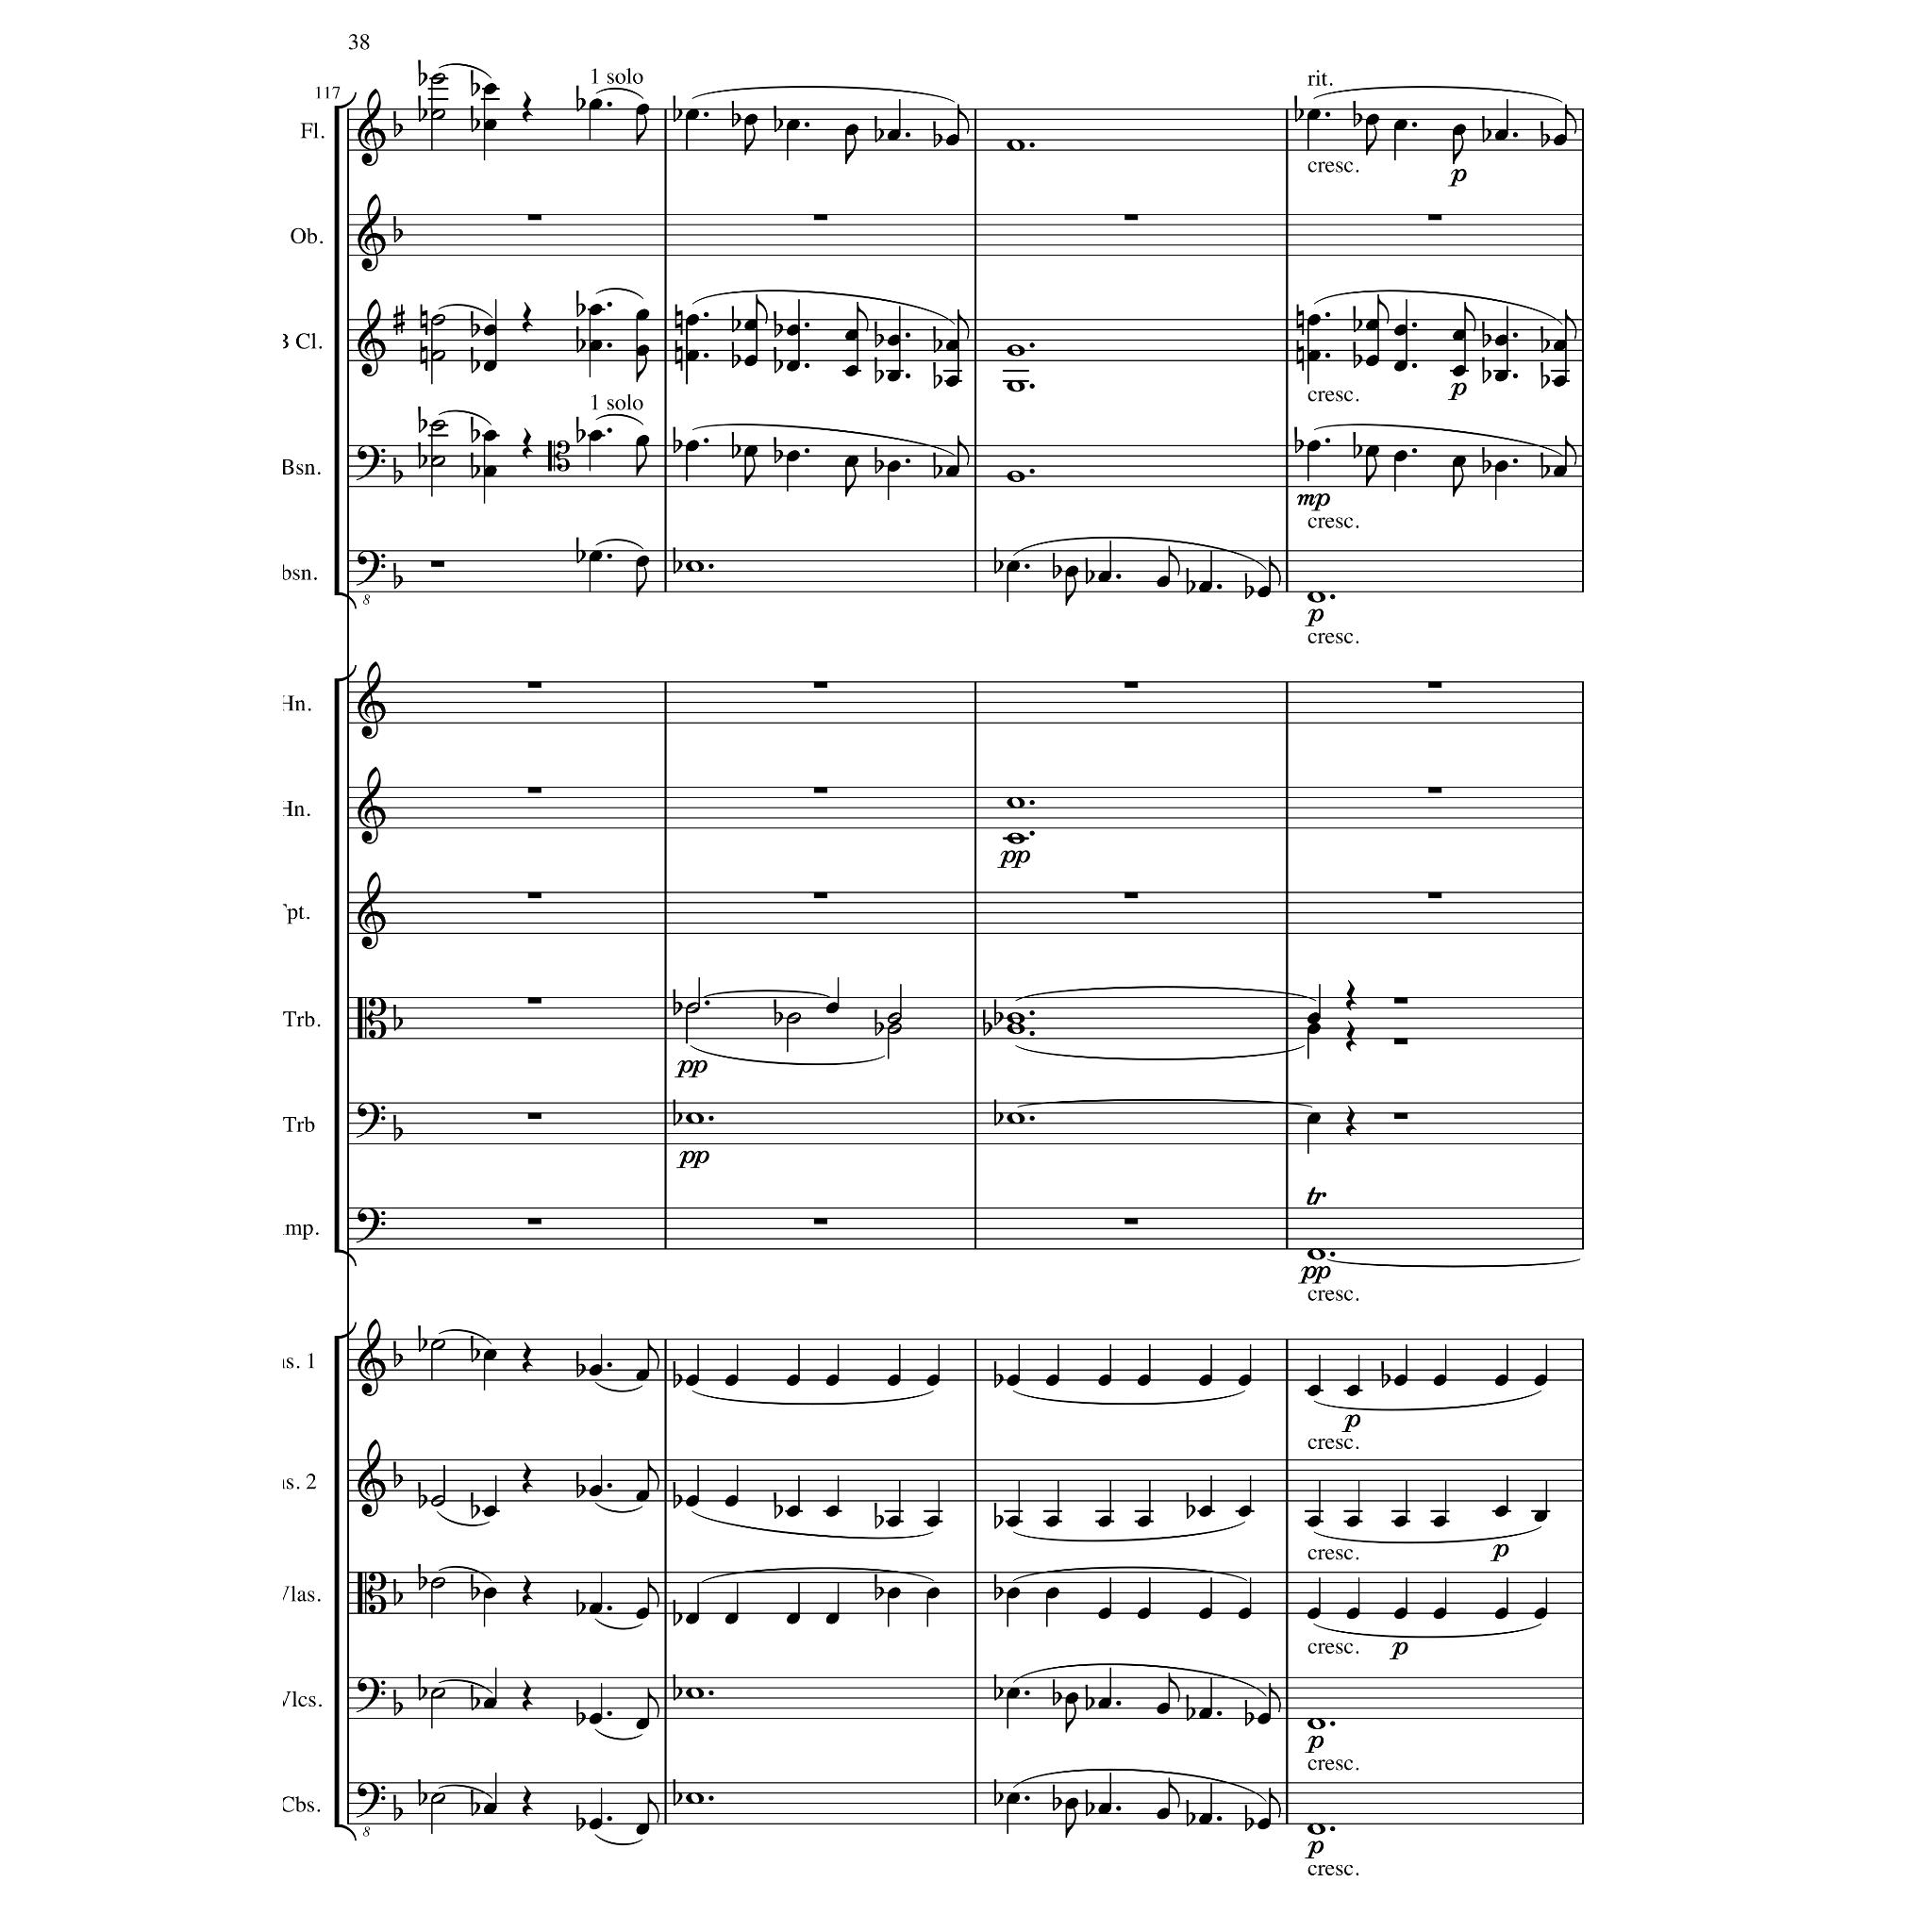fClef: (355, 551, 385, 587), (355, 445, 385, 481), (355, 1207, 385, 1243), (355, 1103, 385, 1139), (355, 1783, 385, 1819), (355, 1677, 385, 1713)
flag8thDown: (1453, 466, 1464, 498), (636, 445, 647, 477), (636, 351, 647, 383), (845, 466, 857, 498), (1453, 134, 1464, 164), (1366, 457, 1377, 487), (1366, 125, 1377, 156), (636, 567, 647, 597), (636, 115, 647, 145), (845, 134, 857, 164), (1066, 1807, 1075, 1838), (1066, 1703, 1075, 1733), (1066, 575, 1075, 606), (745, 125, 755, 156), (745, 457, 755, 487)
flag8thUp: (755, 294, 768, 325), (1269, 557, 1280, 587), (1168, 546, 1179, 576), (1168, 1778, 1179, 1808), (1168, 1673, 1179, 1703), (1269, 1789, 1280, 1819), (1269, 1683, 1280, 1713), (1565, 310, 1576, 341), (1565, 105, 1576, 135), (1464, 302, 1475, 332), (1565, 436, 1576, 466), (1377, 294, 1389, 325), (647, 1340, 658, 1370), (647, 1793, 658, 1824), (647, 1689, 658, 1719), (647, 1578, 658, 1608), (647, 1460, 658, 1491), (857, 302, 868, 332), (958, 436, 969, 466), (958, 310, 969, 341), (958, 105, 969, 135)
gClef: (358, 766, 386, 845), (358, 660, 386, 740), (358, 872, 386, 951), (358, 300, 386, 377), (358, 194, 386, 272), (358, 89, 386, 166), (358, 1440, 386, 1517), (358, 1319, 386, 1396)
noteheadBlack: (1257, 585, 1272, 598), (1306, 440, 1321, 453), (1306, 313, 1321, 326), (1306, 349, 1321, 362), (1136, 1374, 1151, 1387), (1306, 1607, 1321, 1621), (1306, 1515, 1321, 1528), (1306, 1011, 1321, 1024), (1136, 1607, 1151, 1621), (1136, 1515, 1151, 1528), (1451, 364, 1466, 377), (1451, 455, 1466, 468), (1345, 1607, 1360, 1621), (1345, 1515, 1360, 1528), (1392, 1607, 1407, 1621), (1392, 1515, 1407, 1528), (1392, 1374, 1407, 1387), (1432, 1607, 1447, 1621), (1432, 1515, 1447, 1528), (1432, 1374, 1447, 1387), (1364, 319, 1379, 332), (1364, 355, 1379, 368), (1364, 113, 1379, 126), (843, 455, 858, 468), (843, 364, 858, 377), (824, 1374, 840, 1387), (824, 1002, 840, 1015), (743, 319, 758, 332), (743, 355, 758, 368), (743, 113, 758, 126), (1238, 1374, 1251, 1387), (1238, 1607, 1251, 1621), (1198, 1374, 1211, 1387), (1157, 1807, 1170, 1821), (1157, 1702, 1170, 1715), (1157, 575, 1170, 589), (1198, 1707, 1211, 1721), (1198, 1607, 1211, 1621), (1098, 1802, 1111, 1815), (1098, 1607, 1111, 1621), (1098, 1515, 1111, 1528), (1098, 1374, 1111, 1387), (1098, 570, 1111, 583), (1045, 1587, 1058, 1600), (1045, 1515, 1058, 1528), (1045, 1374, 1058, 1387), (1534, 1607, 1547, 1621), (1534, 1374, 1547, 1387), (1553, 134, 1566, 147), (1494, 1607, 1507, 1621), (1494, 1374, 1507, 1387), (1494, 334, 1507, 347), (1494, 370, 1507, 383), (1494, 128, 1507, 142), (589, 1602, 602, 1615), (589, 98, 602, 111), (636, 1823, 649, 1836), (636, 1717, 649, 1730), (636, 1607, 649, 1621), (685, 440, 698, 453), (685, 313, 698, 326), (685, 349, 698, 362), (636, 555, 649, 568), (636, 434, 649, 447), (483, 1802, 496, 1815), (483, 1587, 496, 1600), (887, 334, 900, 347), (887, 370, 900, 383), (887, 128, 900, 142), (887, 1587, 900, 1600), (887, 1515, 900, 1528), (887, 1374, 900, 1387), (1006, 1687, 1019, 1700), (1006, 1587, 1019, 1600), (1006, 1515, 1019, 1528), (1006, 1374, 1019, 1387), (1006, 1792, 1019, 1806), (945, 134, 958, 147), (926, 1587, 940, 1600), (926, 1515, 940, 1528), (926, 1374, 940, 1387), (685, 1494, 698, 1507), (685, 1374, 698, 1387), (724, 1494, 738, 1507), (724, 1374, 738, 1387), (786, 1374, 799, 1387), (1257, 1819, 1272, 1830), (1257, 1713, 1272, 1724), (1306, 109, 1321, 121), (1306, 1385, 1321, 1396), (1306, 1113, 1321, 1124), (1306, 1023, 1321, 1034), (1064, 1798, 1079, 1809), (1064, 1692, 1079, 1704), (1064, 566, 1079, 577), (1451, 330, 1466, 341), (1451, 125, 1466, 136), (1345, 1385, 1360, 1396), (1364, 445, 1379, 457), (1392, 451, 1407, 462), (1392, 325, 1407, 336), (1392, 360, 1407, 372), (1392, 119, 1407, 130), (843, 330, 858, 341), (843, 125, 858, 136), (824, 1613, 840, 1624), (824, 1506, 840, 1517), (743, 445, 758, 457), (1238, 1506, 1251, 1517), (1198, 581, 1211, 592), (1198, 1506, 1211, 1517), (1198, 1813, 1211, 1824), (1098, 1698, 1111, 1709), (1534, 1511, 1547, 1523), (1553, 340, 1566, 351), (1553, 466, 1566, 477), (1553, 375, 1566, 387), (1494, 1506, 1507, 1517), (1494, 460, 1507, 472), (589, 1819, 602, 1830), (589, 1713, 602, 1724), (589, 1485, 602, 1496), (589, 1364, 602, 1375), (589, 551, 602, 562), (589, 430, 602, 441), (589, 304, 602, 315), (589, 340, 602, 351), (636, 1491, 649, 1502), (685, 109, 698, 121), (636, 1370, 649, 1381), (636, 309, 649, 321), (636, 345, 649, 357), (636, 104, 649, 115), (483, 83, 496, 94), (483, 119, 496, 130), (483, 360, 496, 372), (483, 1698, 496, 1709), (483, 1506, 496, 1517), (483, 1349, 496, 1360), (483, 430, 496, 441), (483, 466, 496, 477), (483, 325, 496, 336), (887, 460, 900, 472), (1006, 560, 1019, 572), (945, 466, 958, 477), (945, 340, 958, 351), (945, 375, 958, 387), (685, 1613, 698, 1624), (724, 1613, 738, 1624), (786, 1613, 799, 1624), (786, 1506, 799, 1517), (786, 451, 799, 462), (786, 325, 799, 336), (786, 360, 799, 372), (786, 119, 799, 130)
noteheadHalf: (685, 1002, 700, 1015), (430, 1792, 445, 1806), (430, 1687, 445, 1700), (430, 1494, 445, 1507), (430, 1338, 445, 1351), (430, 419, 445, 432), (430, 455, 445, 468), (430, 313, 445, 326), (430, 349, 445, 362), (887, 1011, 902, 1024), (786, 1011, 801, 1024), (430, 1577, 445, 1589), (430, 74, 445, 85), (430, 109, 445, 121), (887, 1023, 902, 1034)
noteheadWhole: (1307, 591, 1325, 604), (1307, 1823, 1325, 1836), (1307, 1717, 1325, 1730), (685, 560, 704, 574), (1006, 796, 1024, 809), (1006, 832, 1024, 845), (1006, 470, 1024, 483), (685, 1687, 704, 1700), (1307, 1249, 1325, 1260), (1006, 140, 1024, 151), (1006, 1113, 1024, 1124), (1006, 1023, 1024, 1034), (1006, 1013, 1024, 1024), (1006, 345, 1024, 357), (1006, 381, 1024, 392), (685, 1792, 704, 1804), (685, 1113, 704, 1124)
restQuarter: (1345, 1106, 1357, 1138), (1345, 1021, 1357, 1053), (1345, 979, 1357, 1011), (522, 1785, 533, 1817), (522, 1574, 533, 1607), (522, 1462, 533, 1494), (522, 1341, 533, 1374), (522, 302, 533, 334), (522, 92, 533, 124), (522, 1681, 533, 1711), (522, 428, 533, 458)
restWhole: (1392, 1038, 1407, 1045), (526, 681, 541, 689), (526, 892, 541, 900), (526, 787, 541, 794), (430, 560, 445, 568), (1124, 892, 1138, 900), (1124, 681, 1138, 689), (813, 787, 826, 794), (813, 681, 826, 689), (813, 892, 826, 900), (1428, 892, 1441, 900), (1428, 787, 1441, 794), (1428, 681, 1441, 689), (1392, 1113, 1407, 1119), (1392, 998, 1407, 1004), (526, 1219, 541, 1224), (526, 1113, 541, 1119), (526, 998, 541, 1004), (526, 215, 541, 221), (813, 215, 826, 221), (1124, 1219, 1138, 1224), (1124, 215, 1138, 221), (813, 1219, 826, 1224), (1428, 215, 1441, 221)
